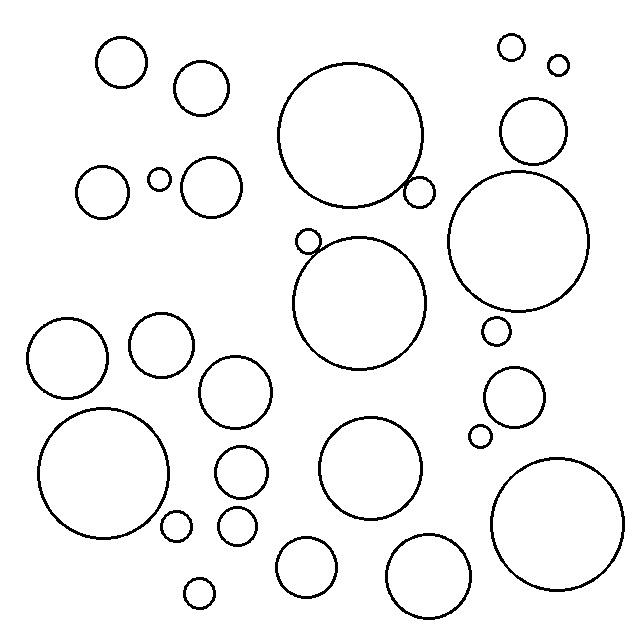circle: (273, 59, 427, 211), (445, 168, 592, 315), (289, 233, 431, 375), (488, 453, 629, 595), (34, 403, 171, 542), (315, 411, 427, 525), (384, 528, 476, 624), (21, 314, 113, 403), (195, 353, 275, 432), (497, 93, 572, 168), (125, 309, 199, 382), (272, 531, 343, 603), (177, 153, 247, 223), (479, 364, 549, 432), (169, 56, 236, 121), (73, 161, 134, 224), (213, 444, 272, 503), (91, 34, 152, 91), (215, 504, 260, 551), (403, 173, 440, 215), (181, 575, 218, 612), (158, 509, 195, 545), (494, 30, 530, 66), (480, 314, 514, 349), (292, 224, 325, 259), (465, 421, 497, 452), (143, 164, 175, 193), (546, 51, 572, 79)
